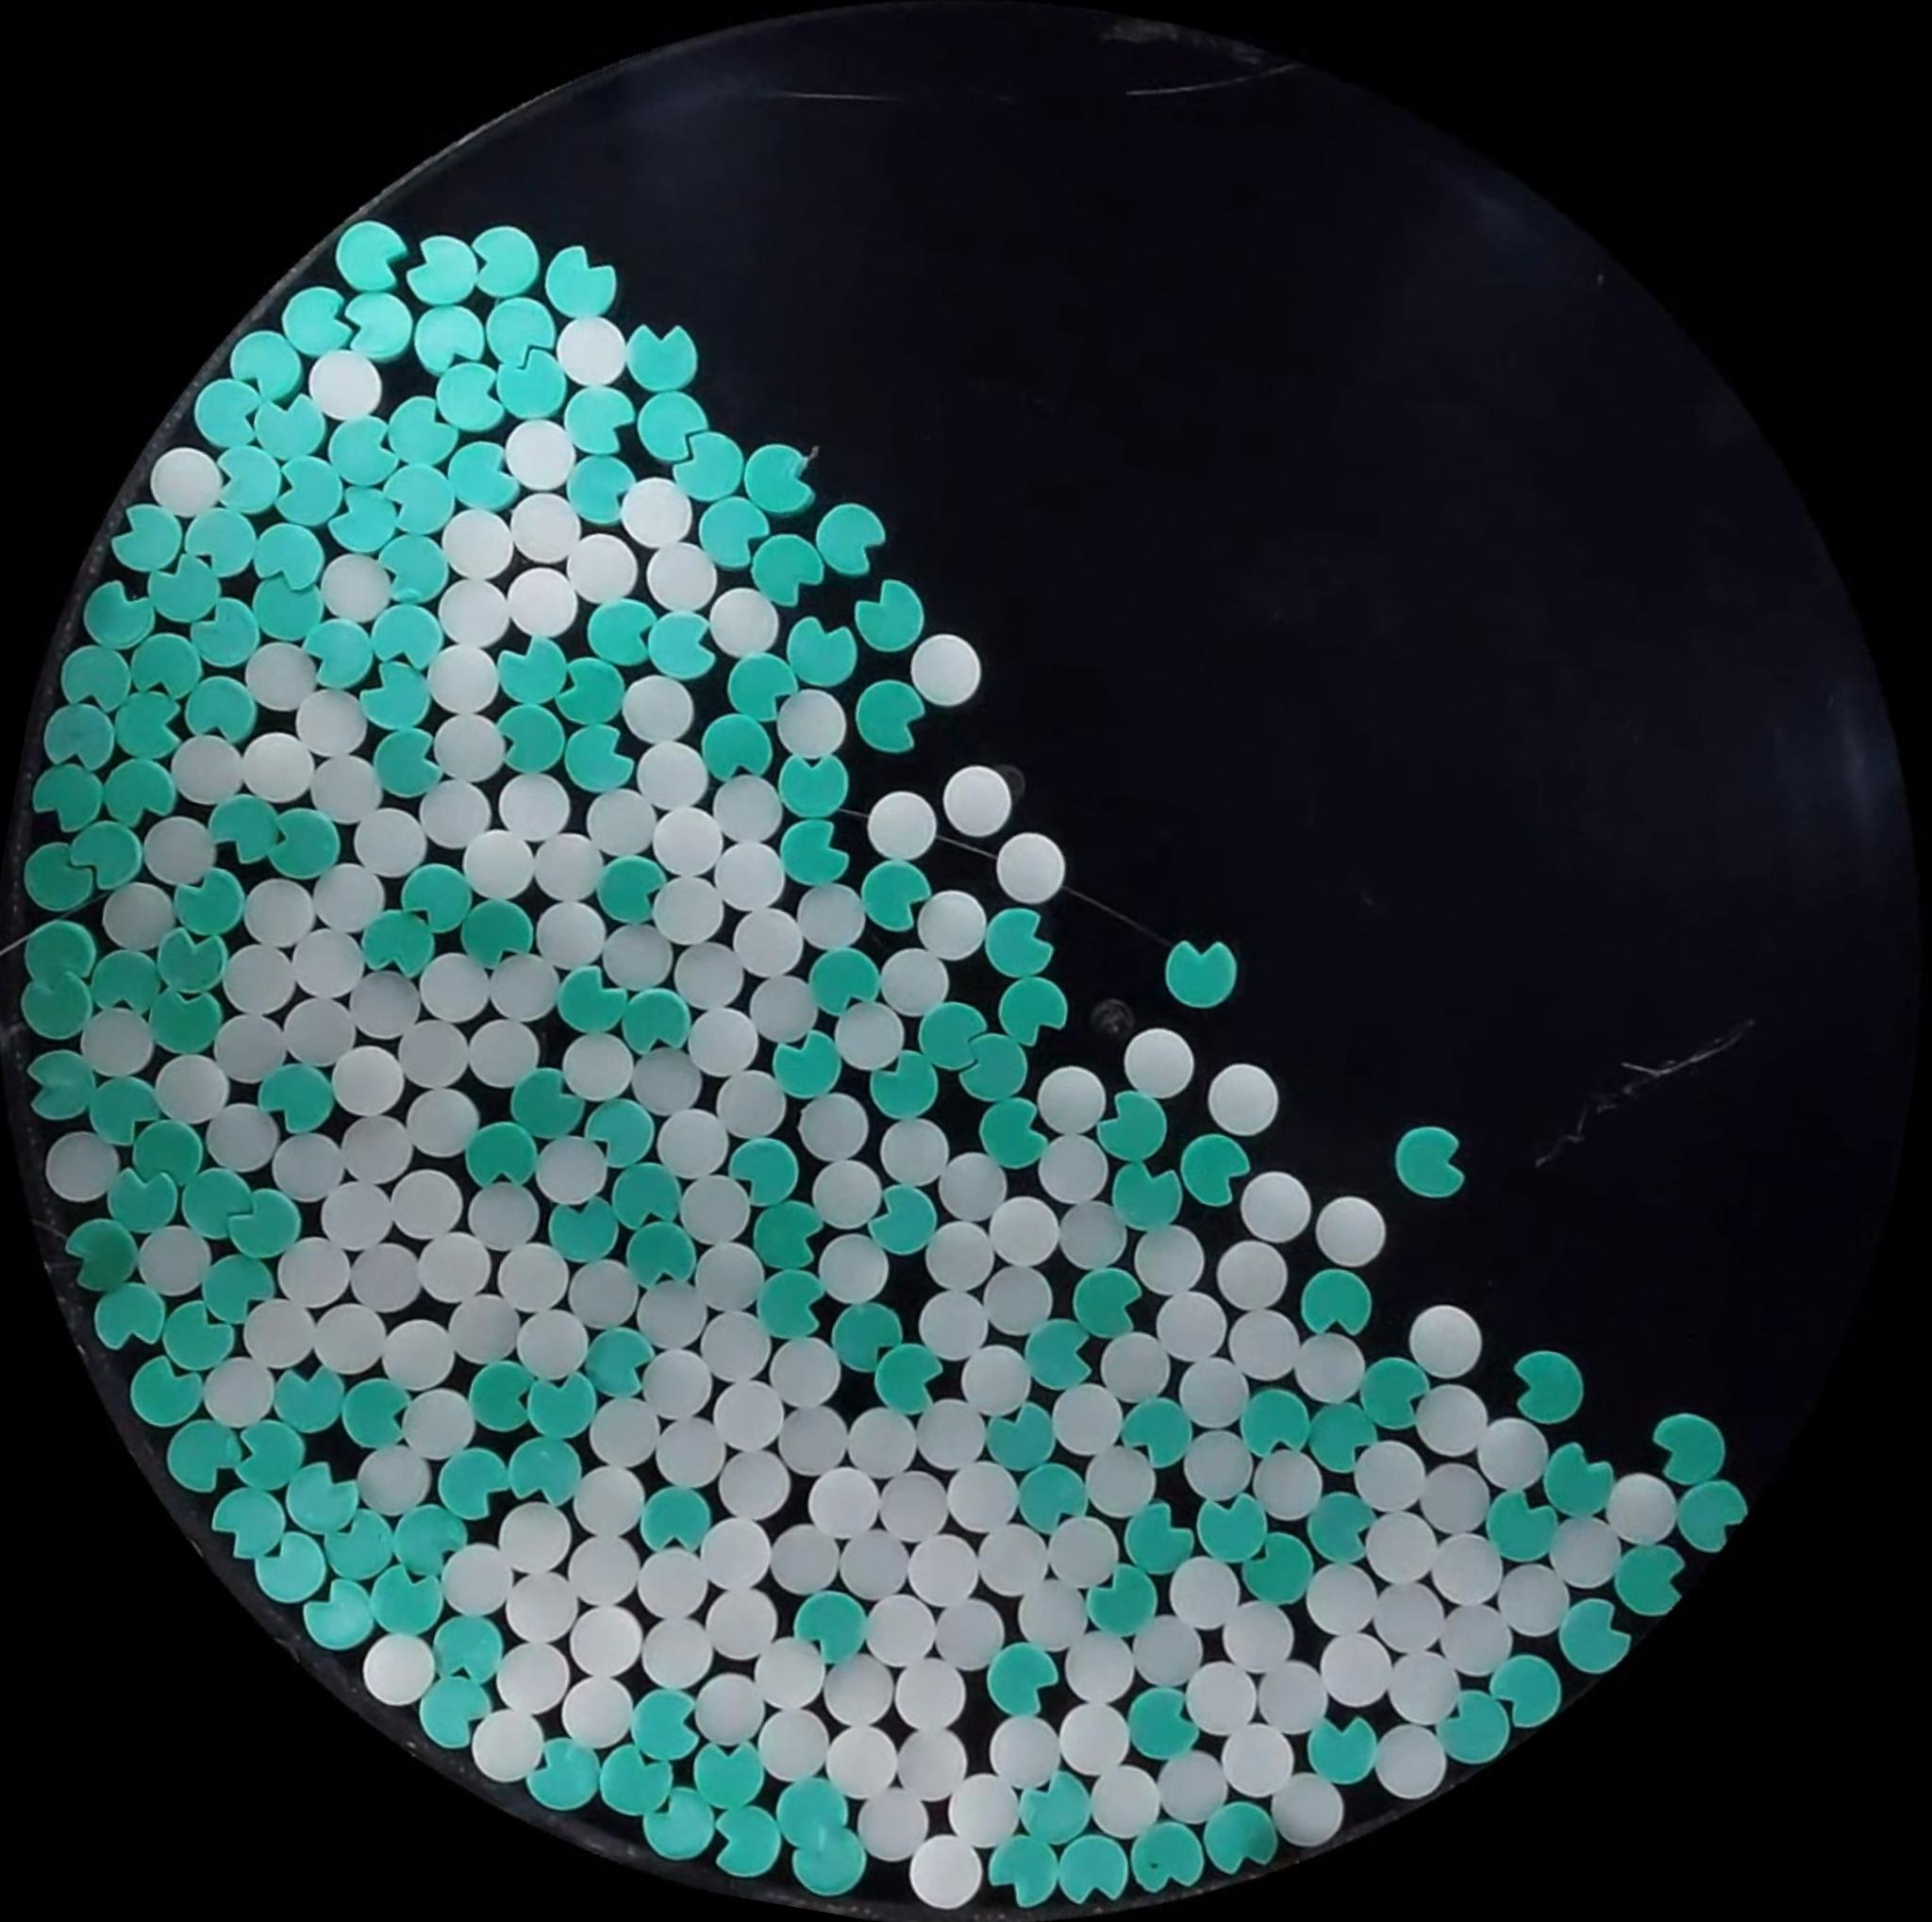disco-pmma: (999, 1563, 1100, 1660), (595, 908, 697, 1003), (194, 1091, 292, 1188), (399, 1074, 500, 1167), (929, 1445, 1029, 1538), (421, 699, 514, 792), (864, 1456, 955, 1551), (1052, 1621, 1147, 1711), (299, 852, 396, 940), (739, 1628, 836, 1716), (850, 1778, 940, 1871), (389, 1380, 482, 1470), (709, 1438, 802, 1528), (1047, 1371, 1137, 1464), (1408, 1452, 1497, 1545), (1364, 1568, 1453, 1662), (1265, 1762, 1355, 1853), (558, 1021, 649, 1111), (887, 1646, 977, 1737), (282, 917, 375, 1005), (1045, 1508, 1138, 1596), (683, 1232, 778, 1318), (489, 1633, 579, 1723), (1357, 1501, 1446, 1591), (975, 1185, 1066, 1273), (1367, 1716, 1455, 1806), (1313, 1625, 1402, 1713), (1408, 1376, 1497, 1464), (1174, 1348, 1262, 1438), (1420, 1522, 1508, 1612), (825, 1521, 917, 1607), (201, 1005, 294, 1089), (560, 1253, 653, 1338), (1288, 1322, 1372, 1415), (355, 1625, 443, 1713), (465, 1698, 553, 1786), (970, 1514, 1057, 1602), (234, 723, 324, 810), (1401, 1297, 1490, 1383), (663, 931, 753, 1017), (769, 1397, 860, 1482), (640, 1095, 735, 1176), (306, 1294, 394, 1380), (1050, 1693, 1137, 1781), (818, 1716, 904, 1804), (313, 1174, 401, 1260), (565, 1595, 651, 1683), (373, 1309, 461, 1396), (700, 1579, 787, 1667), (1149, 1741, 1235, 1829), (1490, 1554, 1577, 1642), (554, 1665, 642, 1751), (501, 1565, 589, 1651), (887, 1716, 975, 1802), (1207, 1232, 1295, 1318), (1379, 1646, 1467, 1732), (195, 1355, 285, 1440), (911, 1390, 996, 1480), (1075, 1440, 1165, 1524), (1216, 1302, 1306, 1387), (677, 1665, 769, 1748), (903, 1287, 996, 1368), (238, 1290, 324, 1376), (392, 1009, 479, 1095), (412, 1223, 498, 1309), (350, 1436, 436, 1522), (633, 1040, 720, 1126), (1218, 1720, 1304, 1806), (164, 727, 252, 811), (630, 734, 718, 818), (148, 1045, 236, 1130), (616, 665, 704, 750), (135, 808, 223, 892), (614, 472, 702, 556), (646, 799, 734, 884), (707, 1061, 795, 1146), (672, 1167, 760, 1251), (787, 873, 875, 957), (802, 1463, 890, 1547), (820, 1646, 904, 1734), (873, 1107, 962, 1190), (493, 1496, 582, 1579), (334, 1105, 426, 1186), (343, 1237, 435, 1318), (382, 1162, 468, 1246), (324, 1038, 410, 1123), (528, 1128, 614, 1213), (304, 743, 391, 827), (503, 484, 589, 569), (498, 412, 584, 496), (431, 570, 517, 655), (751, 1698, 838, 1783), (347, 799, 433, 884), (1084, 1757, 1168, 1843), (1541, 1510, 1626, 1596), (456, 820, 542, 905), (303, 341, 389, 426), (39, 1125, 125, 1209), (1598, 1464, 1684, 1549), (1471, 1410, 1555, 1496), (412, 945, 496, 1031), (648, 1412, 734, 1496), (897, 1524, 984, 1609), (345, 957, 433, 1040), (581, 1387, 663, 1475), (581, 785, 670, 866), (867, 936, 957, 1017), (929, 1586, 1010, 1676), (1246, 1443, 1336, 1524), (707, 833, 792, 917), (524, 825, 609, 910), (640, 533, 725, 618), (561, 525, 646, 609), (500, 558, 584, 642), (315, 546, 399, 630), (903, 1829, 987, 1913), (852, 1593, 936, 1677), (76, 1001, 162, 1084), (413, 771, 500, 854), (421, 635, 507, 718), (143, 438, 229, 521), (213, 931, 299, 1014), (739, 965, 825, 1047), (927, 1137, 1014, 1220), (700, 1515, 783, 1602), (938, 1762, 1024, 1845), (1211, 1595, 1297, 1677), (239, 635, 327, 716), (681, 998, 765, 1081), (493, 764, 577, 847), (97, 873, 181, 956), (904, 627, 987, 711), (1309, 1188, 1394, 1271), (989, 825, 1073, 908), (628, 1547, 713, 1630), (1126, 1220, 1212, 1301), (463, 1010, 551, 1089), (727, 899, 809, 982), (1348, 1436, 1431, 1519), (1434, 1602, 1517, 1684), (702, 581, 787, 662), (706, 767, 790, 848), (436, 503, 521, 584), (289, 683, 373, 764), (1117, 1021, 1202, 1102), (459, 1176, 544, 1257), (648, 866, 728, 949), (771, 681, 853, 762), (1233, 1165, 1316, 1246), (1204, 1056, 1284, 1139), (938, 759, 1019, 841), (276, 993, 359, 1074), (438, 1538, 519, 1621), (765, 1519, 848, 1600), (1036, 1128, 1119, 1209), (264, 1230, 348, 1309), (127, 1220, 211, 1299), (626, 1273, 711, 1352), (762, 1332, 846, 1412), (843, 1403, 927, 1482), (563, 1521, 648, 1600), (984, 1711, 1068, 1790), (1100, 1322, 1177, 1408), (862, 783, 943, 864), (269, 1125, 350, 1206), (443, 1283, 524, 1364), (706, 1308, 787, 1389), (820, 1230, 901, 1311), (927, 1216, 1008, 1297), (978, 1255, 1059, 1336), (551, 310, 633, 389), (1179, 1422, 1258, 1505), (1163, 1551, 1246, 1630), (911, 884, 992, 963), (1033, 1060, 1114, 1139), (957, 1334, 1036, 1415), (1154, 1283, 1235, 1362), (510, 1306, 593, 1383), (811, 1155, 889, 1237), (831, 993, 910, 1072), (635, 1616, 714, 1695), (1056, 1195, 1137, 1273), (535, 891, 611, 973), (494, 1241, 572, 1320), (644, 1346, 723, 1424), (1297, 1559, 1381, 1632), (714, 1376, 792, 1454), (236, 873, 315, 949), (794, 1088, 873, 1163), (575, 1461, 655, 1537), (1253, 1654, 1334, 1728), (1128, 1612, 1209, 1686), (486, 943, 561, 1021), (1184, 1656, 1263, 1730)
